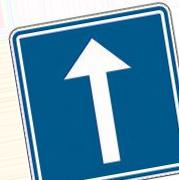forward: (8, 3, 179, 180)
